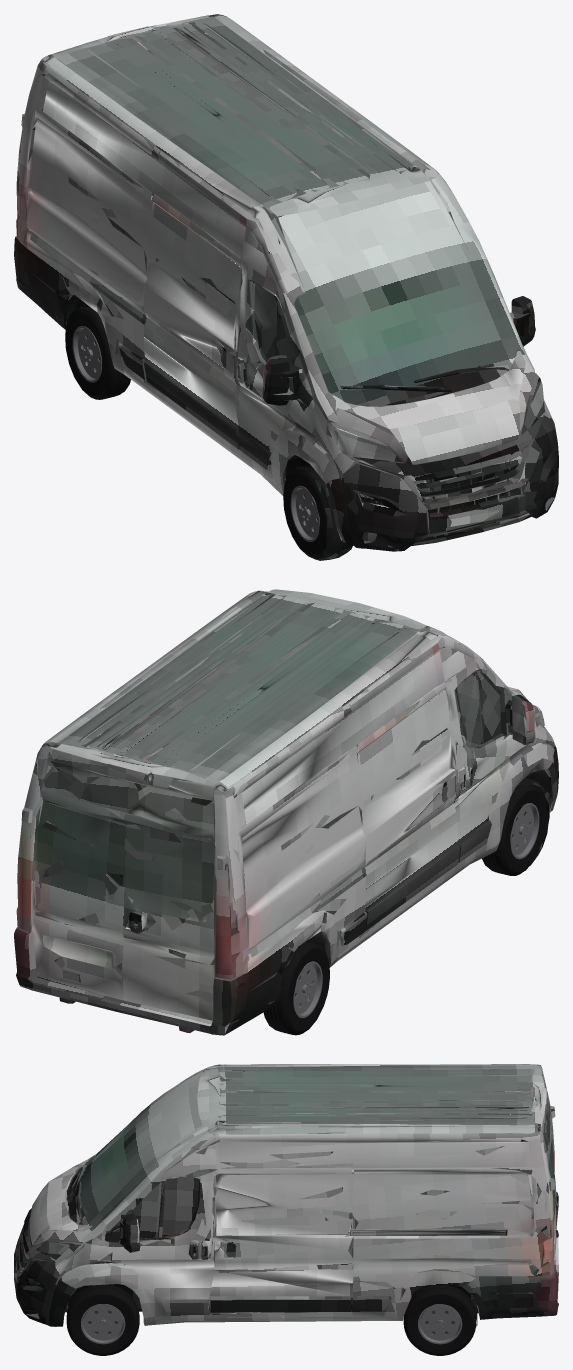
Rendered from transporter_m.glb.
The picture shows the model from 3 angles, top to bottom: view 1: azimuth 30°, elevation 25°; view 2: azimuth 150°, elevation 25°; view 3: azimuth 270°, elevation 25°; orthographic projection. The views are drawn at different scales.
Visible parts, largest first — view 1: karosserie, rad_hr, rad_vr; view 2: karosserie, rad_hr, rad_vr; view 3: karosserie, rad_vl, rad_hl.
Boxes of the visible parts, x1,y1,x2,y2 form: karosserie: (14,14,558,560); rad_hr: (65,305,130,399); rad_vr: (283,464,327,558); karosserie: (14,589,558,1035); rad_hr: (263,940,329,1035); rad_vr: (482,784,546,875); karosserie: (14,1064,558,1326); rad_vl: (66,1284,139,1355); rad_hl: (403,1285,476,1355).
Bounding box in the file's own units: 2.64 × 2.69 × 5.99.
Materials: 3 (1 with a texture image).
